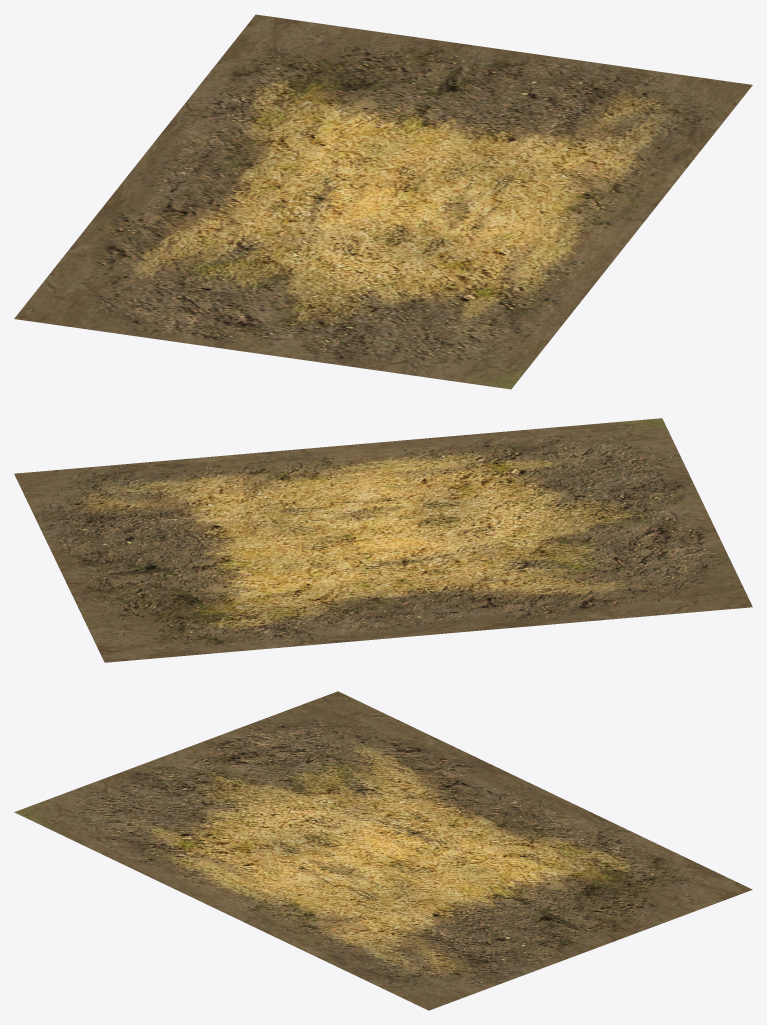
File: celt_sb_mud.dae
The picture shows the model from 3 angles, top to bottom: view 1: azimuth 30°, elevation 25°; view 2: azimuth 150°, elevation 25°; view 3: azimuth 270°, elevation 25°; orthographic projection. The views are drawn at different scales.
Parts seen in each view (by area): view 1: Plane19; view 2: Plane19; view 3: Plane19.
Part boxes in pixels (x1=…): Plane19: x1=14, y1=14, x2=752, y2=389; Plane19: x1=14, y1=418, x2=752, y2=662; Plane19: x1=14, y1=691, x2=752, y2=1010.
Size of the model in its own units: 23.96 by 23.42 by 0.
